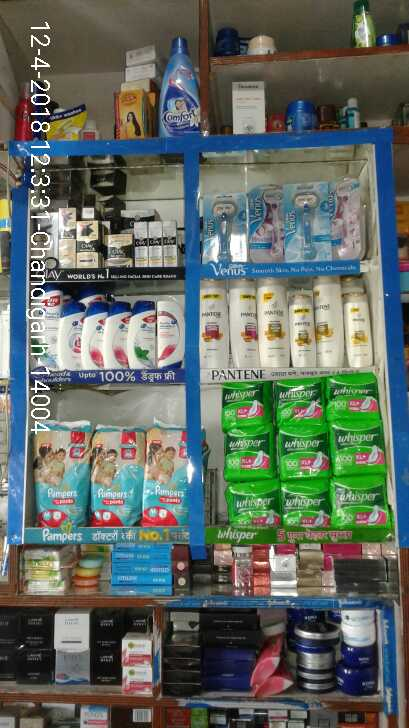venus: (283, 180, 330, 260), (203, 192, 249, 263), (330, 176, 367, 260), (249, 180, 283, 264)
